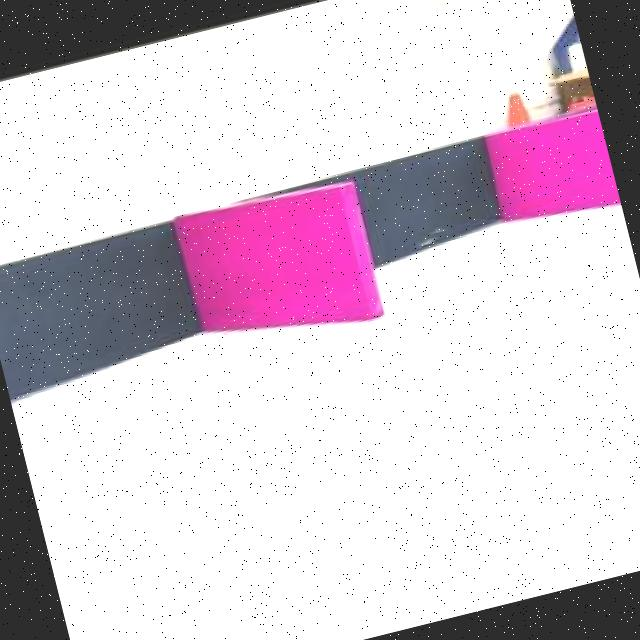xparking: (173, 181, 382, 353), (482, 104, 620, 228)
